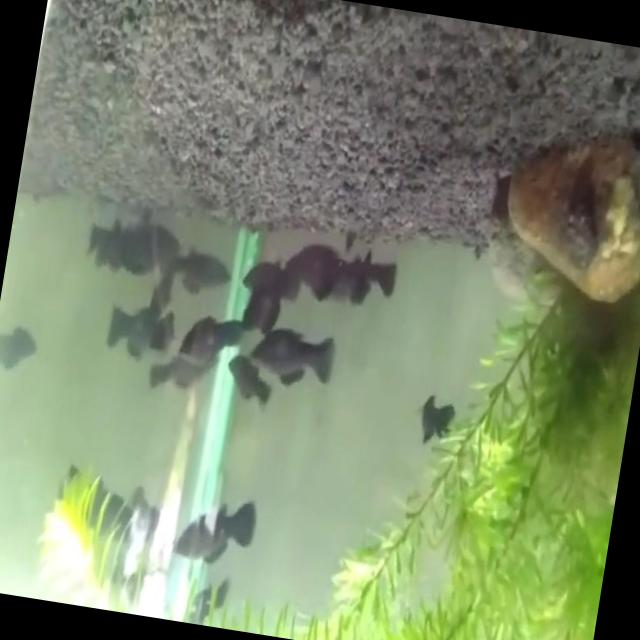PlatyFish: (164, 484, 265, 577), (238, 312, 342, 400)
